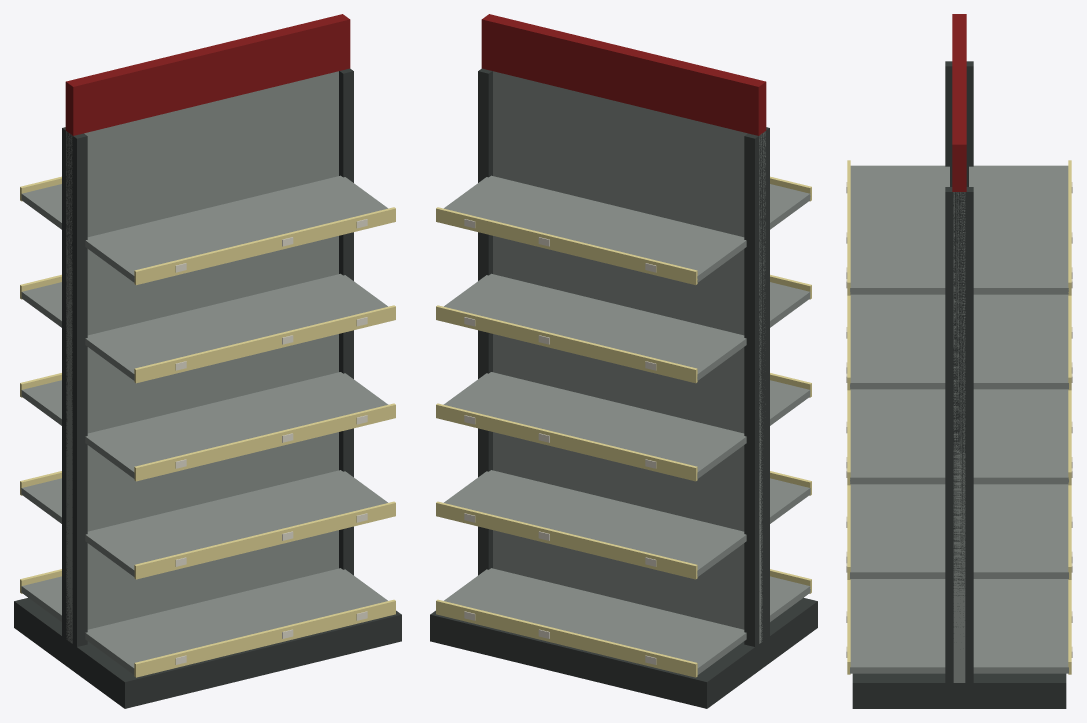
The model's file is ke_hang.glb.
The picture shows the model from 3 angles, left to right: view 1: azimuth 30°, elevation 25°; view 2: azimuth 150°, elevation 25°; view 3: azimuth 270°, elevation 25°; orthographic projection. The views are drawn at different scales.
Parts seen in each view (by area): view 1: ke_hang; view 2: ke_hang; view 3: ke_hang.
Part boxes in pixels (left/top/right/bottom): ke_hang: left=14, top=14, right=401, bottom=708; ke_hang: left=430, top=14, right=817, bottom=708; ke_hang: left=846, top=14, right=1072, bottom=708.
Size of the model in its own units: 1.3 by 2.62 by 0.952.
